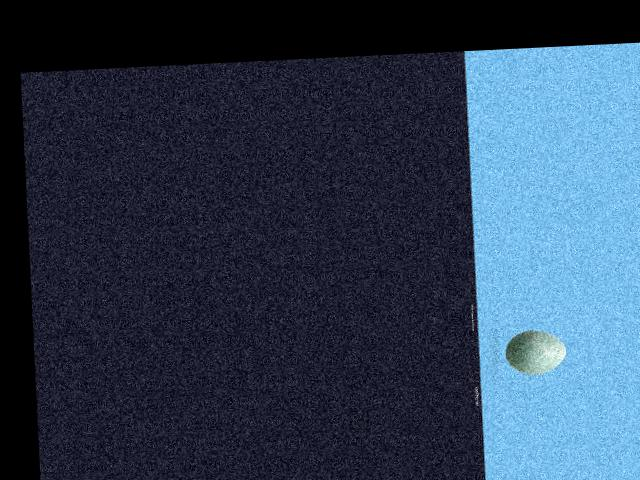egg: (505, 328, 567, 375)
